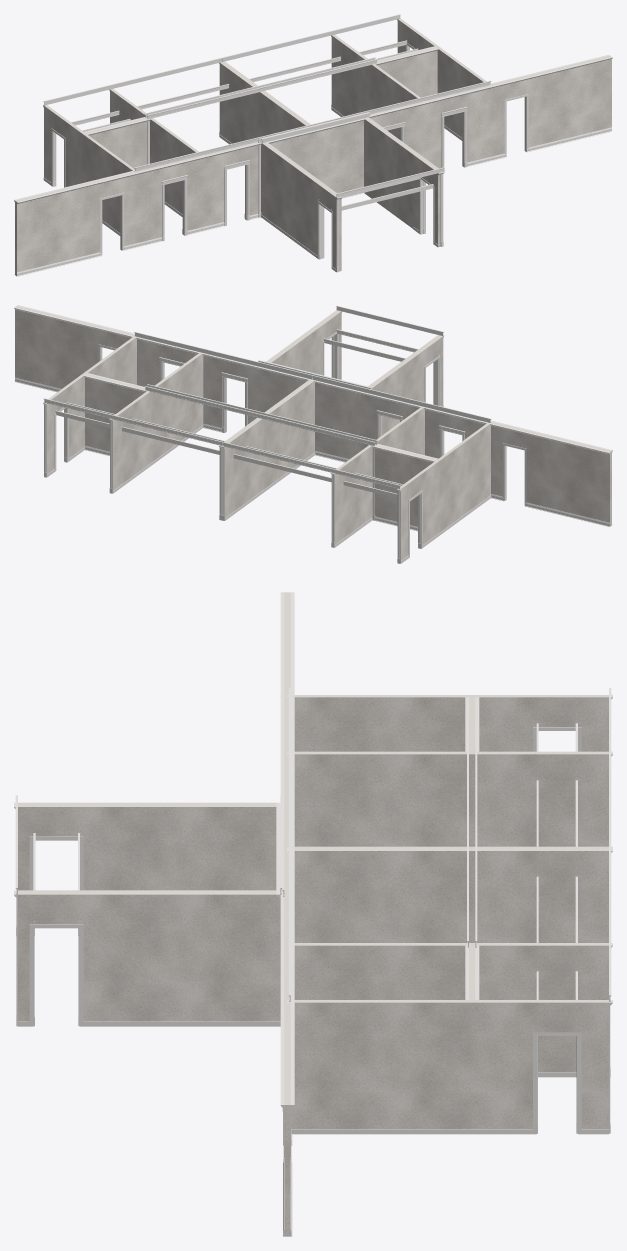
Rendered from walls_t.glb.
3 renders of one model, top to bottom at view 1: azimuth 30°, elevation 25°; view 2: azimuth 150°, elevation 25°; view 3: azimuth 270°, elevation 25°, orthographic. The views are drawn at different scales.
Visible parts, largest first — view 1: walls_t_plaster, molduras, walls_t_trim; view 2: walls_t_plaster, molduras, walls_t_trim; view 3: walls_t_plaster, molduras, walls_t_trim.
Part boxes in pixels (<box>): walls_t_plaster: <box>15,18,611,276</box>; molduras: <box>14,14,612,276</box>; walls_t_trim: <box>43,43,528,271</box>; walls_t_plaster: <box>15,306,611,563</box>; molduras: <box>14,305,612,563</box>; walls_t_trim: <box>47,332,526,563</box>; walls_t_plaster: <box>18,592,608,1236</box>; molduras: <box>14,592,612,1236</box>; walls_t_trim: <box>18,727,608,1158</box>.
Bounding box in the file's own units: 23.4 × 2.95 × 11.55.
2 materials, 1 textured.
